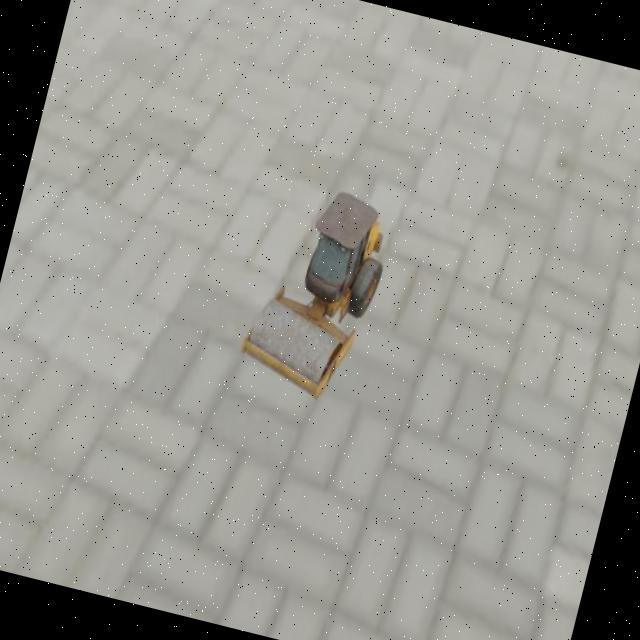Roller: (232, 176, 398, 407)
